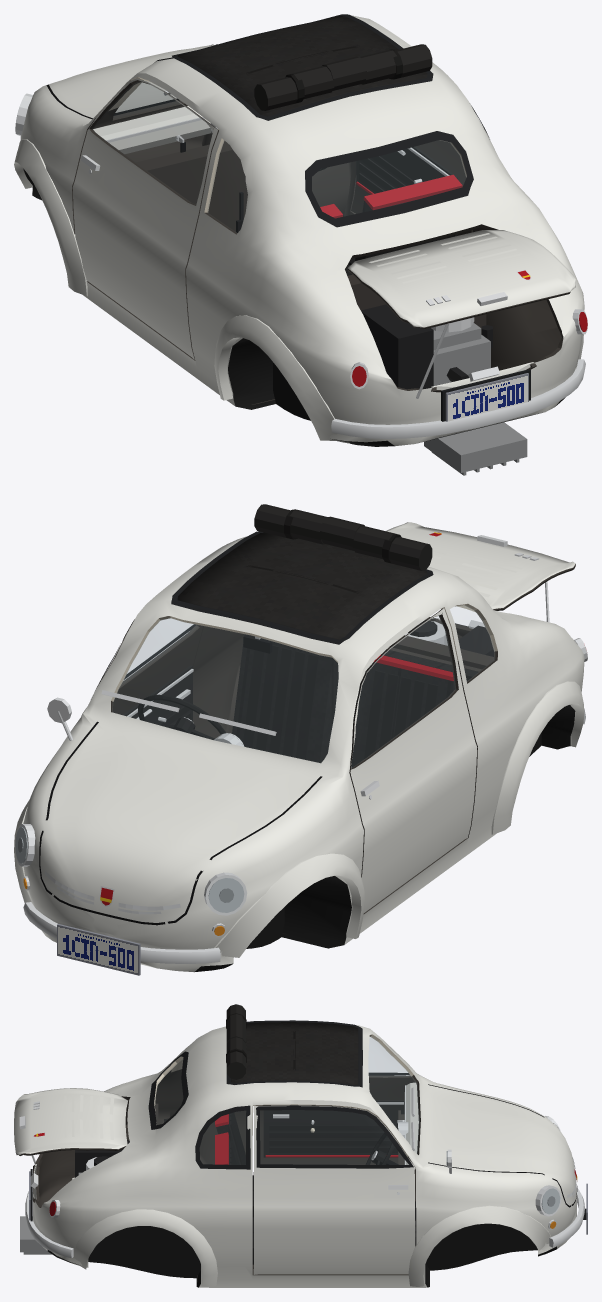
The model's file is abarth695_classic.glb.
The picture shows the model from 3 angles, top to bottom: view 1: azimuth 30°, elevation 25°; view 2: azimuth 150°, elevation 25°; view 3: azimuth 270°, elevation 25°; orthographic projection. The views are drawn at different scales.
Visible parts, largest first — view 1: Body, Door_L, Interior, Glass, Roof_Closed, Door_L_Glass, Roof_Open, Door_R; view 2: Body, Glass, Interior, Door_L, Roof_Closed, Door_L_Glass, Roof_Open, Door_R, Lights_Head, SteeringWheel; view 3: Body, Door_R, Door_L, Roof_Closed, Door_R_Glass, Glass, Interior, Roof_Open, SteeringWheel.
Part boxes in pixels (box(x1,y1,x2,y2)): Body: box(14, 14, 587, 475); Door_L: box(72, 78, 218, 359); Interior: box(93, 106, 486, 334); Glass: box(149, 82, 465, 232); Roof_Closed: box(177, 16, 427, 116); Door_L_Glass: box(92, 82, 211, 203); Roof_Open: box(254, 44, 432, 110); Door_R: box(351, 140, 472, 236); Body: box(14, 522, 587, 975); Glass: box(112, 605, 494, 762); Interior: box(214, 634, 493, 767); Door_L: box(349, 608, 477, 912); Roof_Closed: box(177, 532, 427, 639); Door_L_Glass: box(352, 616, 455, 767); Roof_Open: box(254, 504, 432, 570); Door_R: box(95, 619, 203, 724); Lights_Head: box(15, 827, 244, 912); SteeringWheel: box(138, 694, 225, 739); Body: box(14, 1020, 587, 1287); Door_R: box(253, 1105, 415, 1274); Door_L: box(253, 1072, 414, 1174); Roof_Closed: box(231, 1022, 358, 1084); Door_R_Glass: box(260, 1110, 408, 1164); Glass: box(155, 1037, 419, 1164); Interior: box(155, 1082, 418, 1273); Roof_Open: box(226, 1004, 246, 1079); SteeringWheel: box(365, 1125, 398, 1164).
Bounding box in the file's own units: 1.39 × 1.29 × 3.13.
30 materials, 6 textured.
